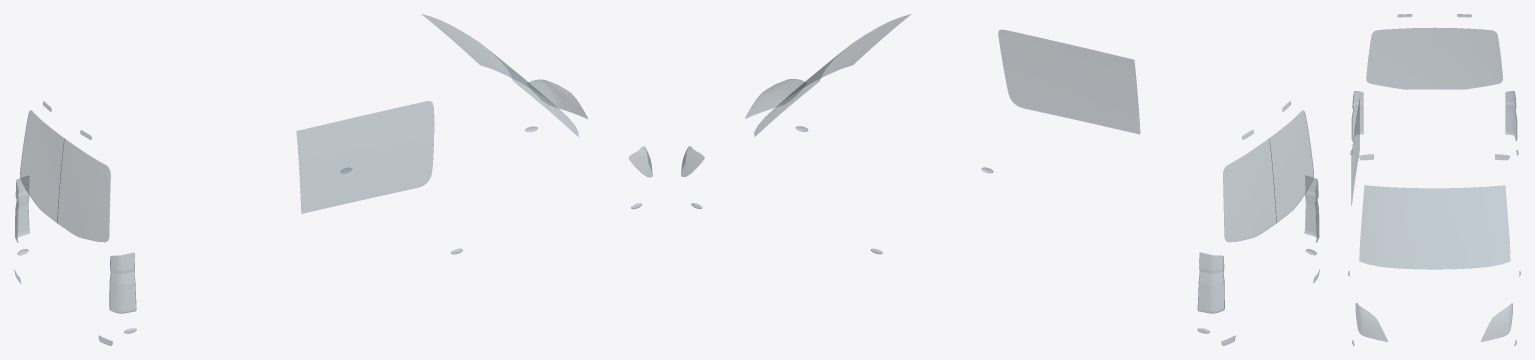
3 views of the same model, side by side, from view 1: azimuth 30°, elevation 25°; view 2: azimuth 150°, elevation 25°; view 3: azimuth 270°, elevation 25° (orthographic). The views are drawn at different scales.
Parts seen in each view (by area): view 1: SM_MercedesSprinter_Glass_Ext1; view 2: SM_MercedesSprinter_Glass_Ext1; view 3: SM_MercedesSprinter_Glass_Ext1.
Boxes of the visible parts, bbox=[...] form: SM_MercedesSprinter_Glass_Ext1: bbox=[14, 14, 652, 345]; SM_MercedesSprinter_Glass_Ext1: bbox=[681, 14, 1319, 345]; SM_MercedesSprinter_Glass_Ext1: bbox=[1348, 14, 1520, 345].
Bounding box in the file's own units: 5.78 × 1.89 × 2.
